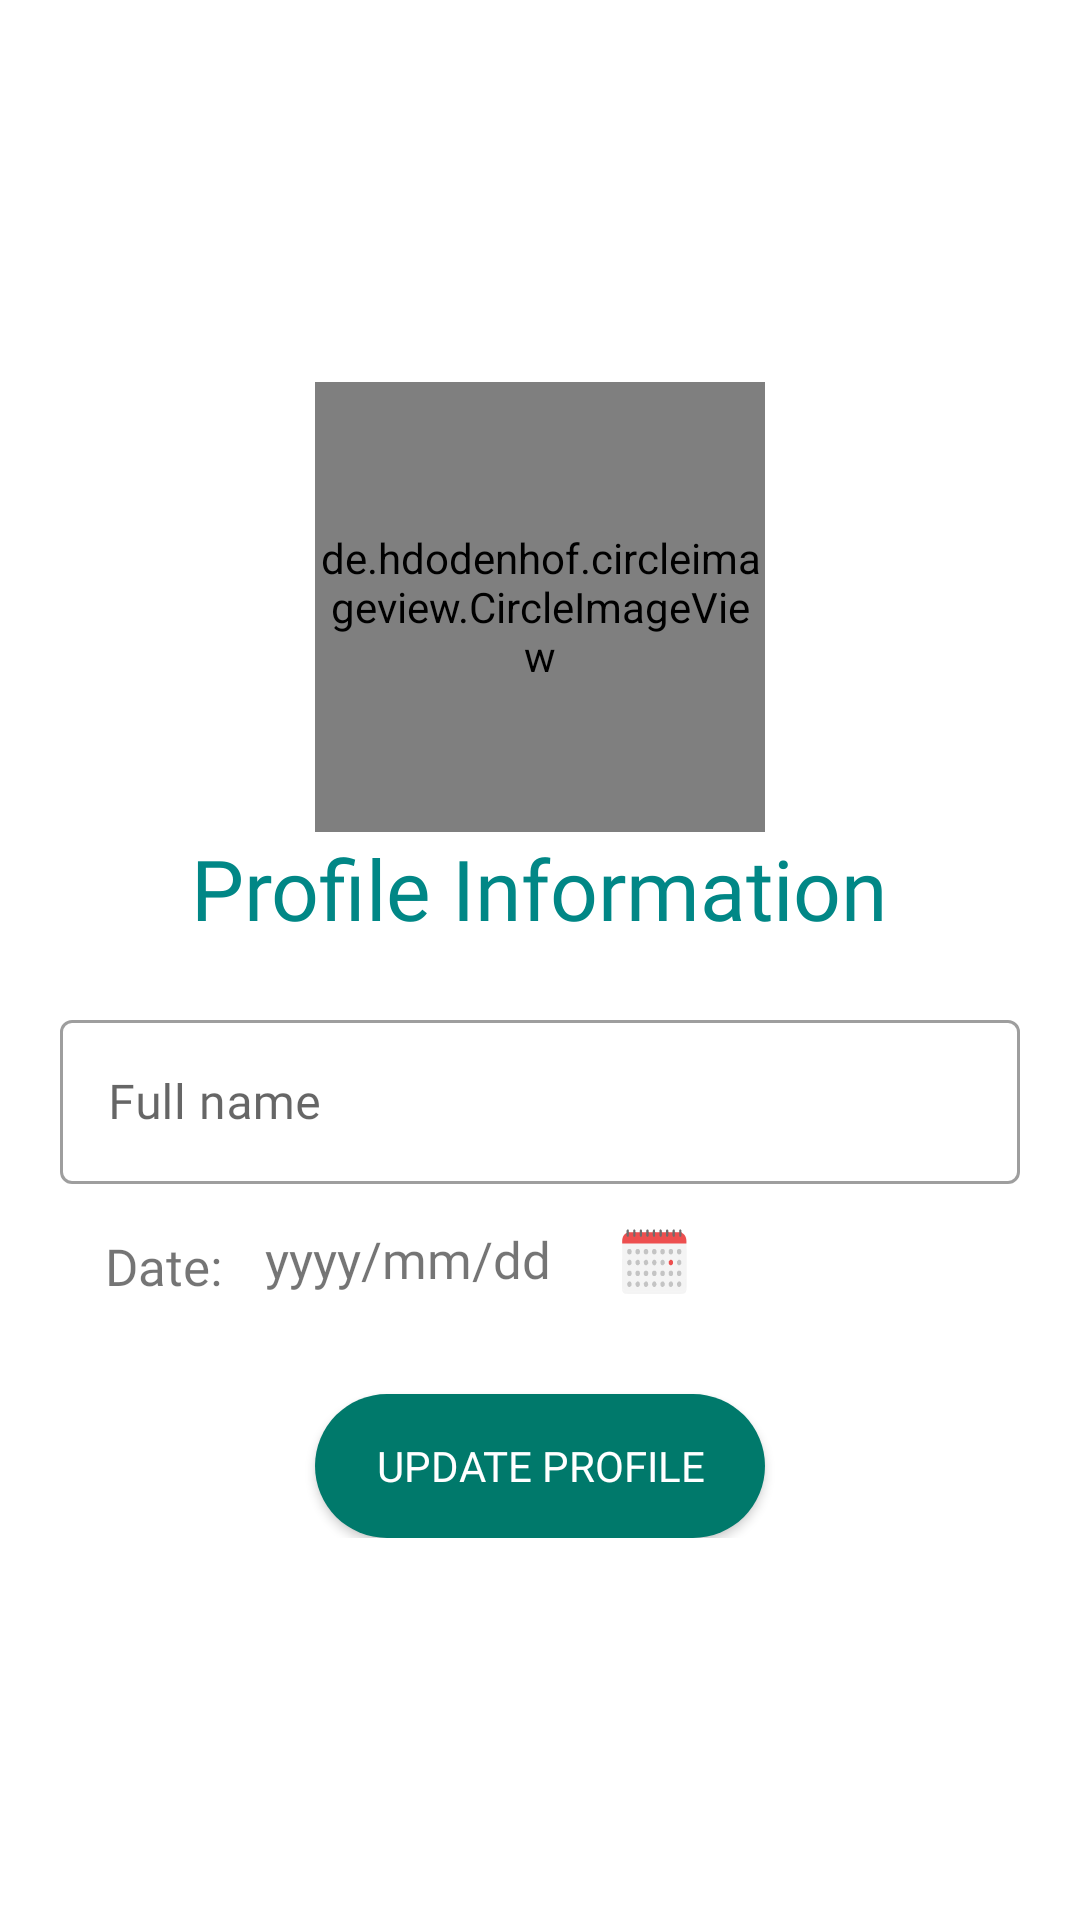

Where to tap for icons on this 1080 × 1920 app screen, as (x=x, y=y):
buttom calender: (x=654, y=1261)
